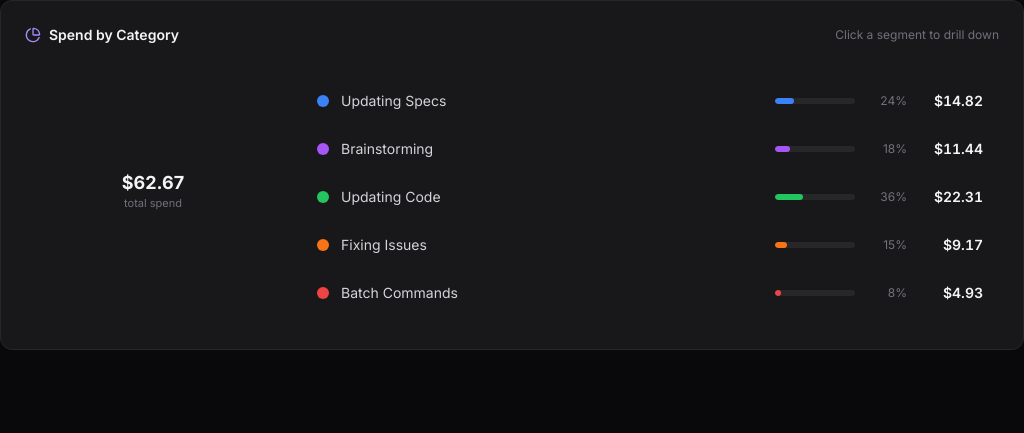
Test: SpendByCategory › hides drill-down panel when the same category is clicked again
Click the button "Fixing Issues 15% $9.17": (384, 244) [305,225,995,265]
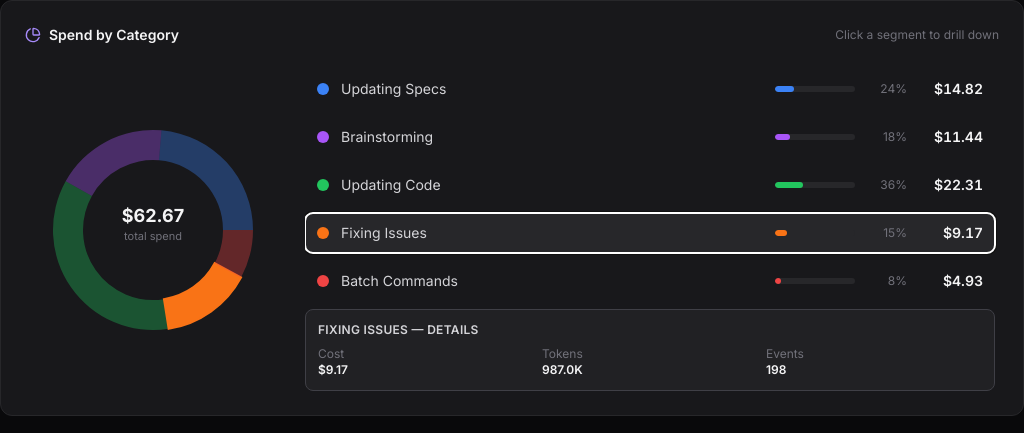
Check: the text "Fixing Issues — Details" is shown, box [318,322,479,337]
Click the button "Fixing Issues 15% $9.17": (384, 232) [305,213,995,253]
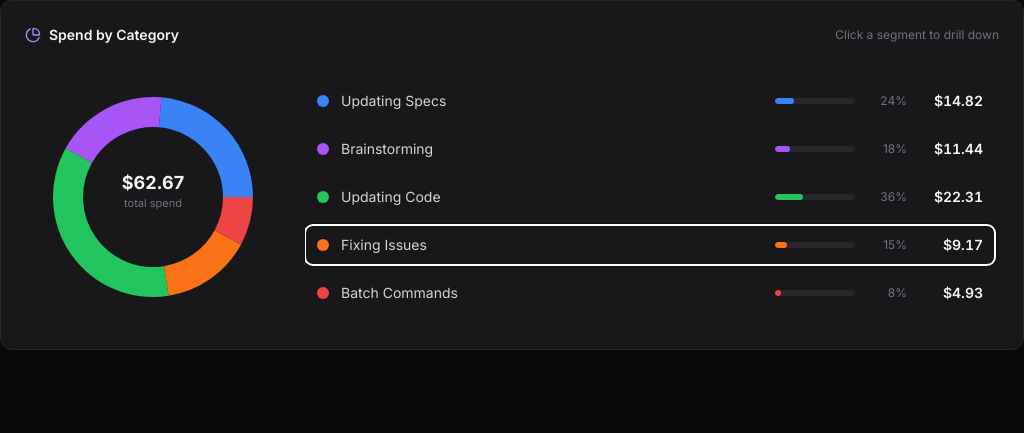
Check: the text "Fixing Issues — Details" is gone
